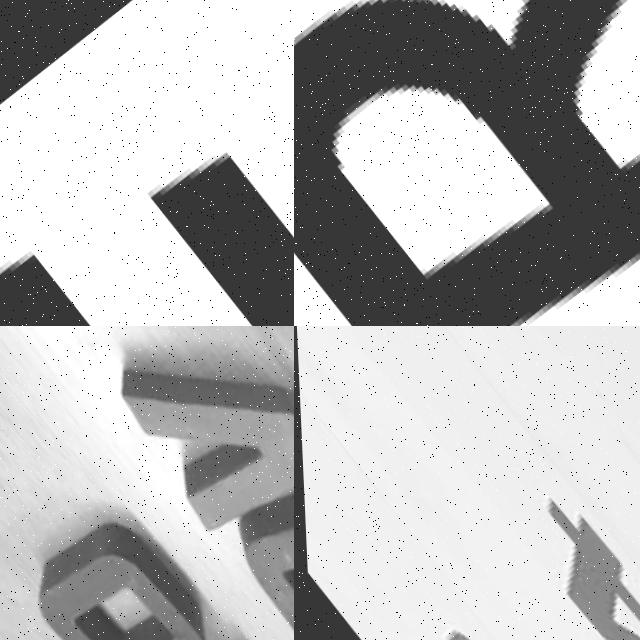4: (471, 441, 640, 640)
8: (397, 602, 620, 640)
D: (212, 448, 294, 640)
F: (0, 0, 294, 326)
O: (0, 483, 236, 640)
R: (294, 0, 640, 326)
V: (78, 326, 294, 576)
